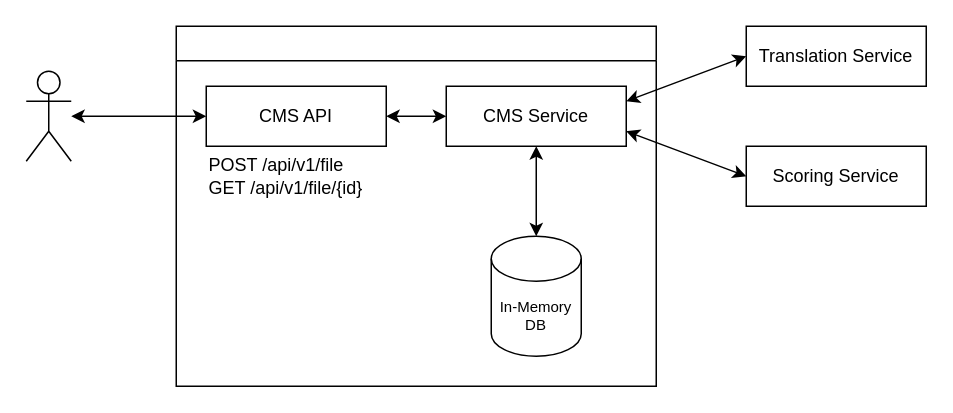
Some shapes in this 953 by 413 pixel diagram are drawn without their labels. The shapes that lost their labels are listed below. From the top down, each one's box as (x1, y1, x2, y2) in pixels, then its label:
(25, 70, 71, 161): Actor
(175, 25, 656, 386): CMS App
